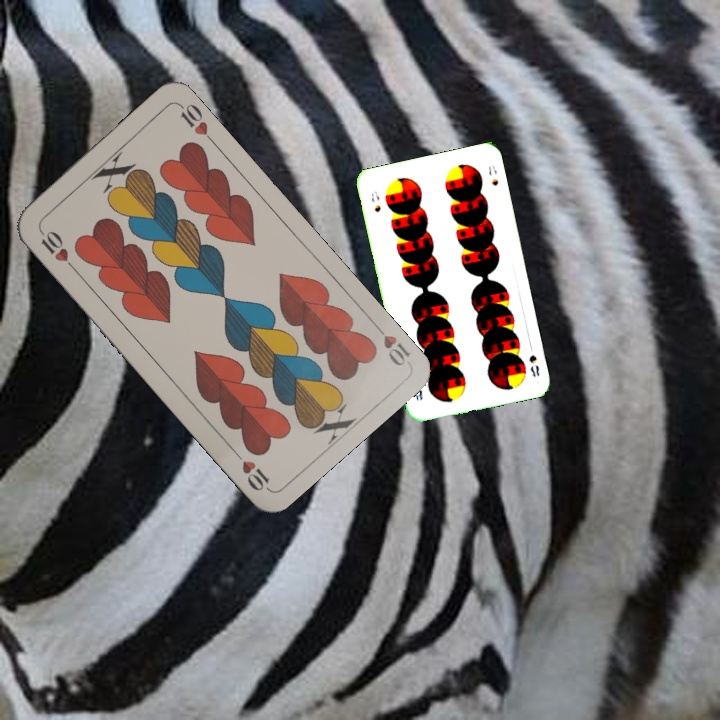H10: (368, 318, 413, 369), (35, 225, 79, 273)
S8: (525, 351, 542, 380), (367, 187, 384, 215)
